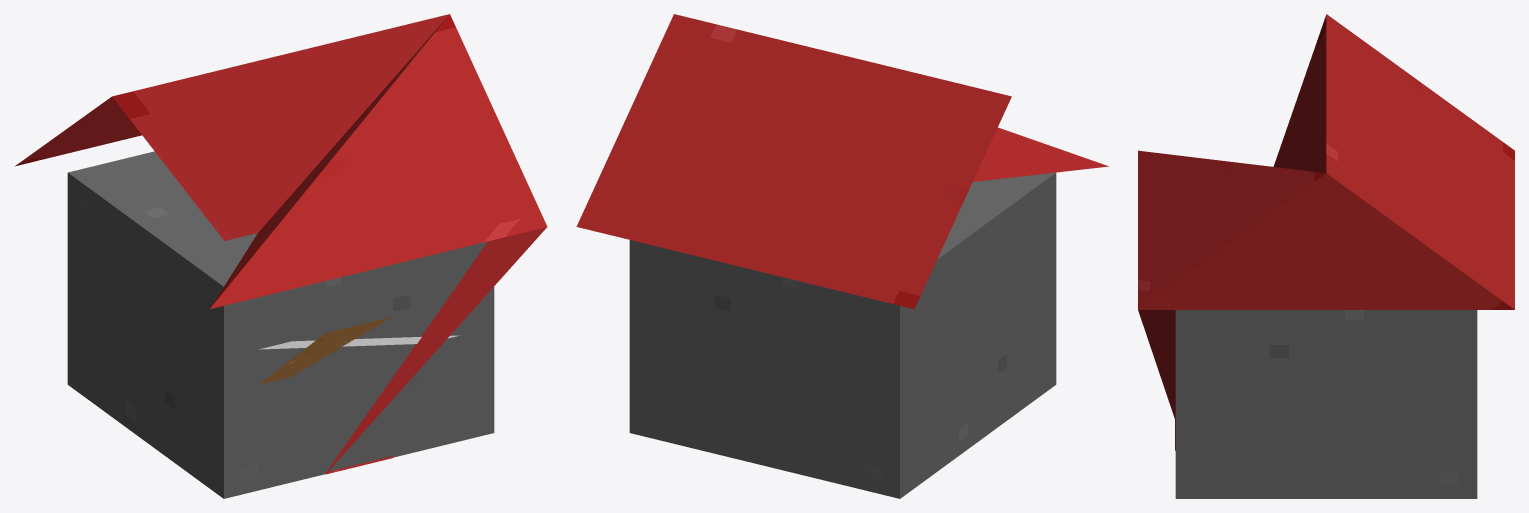
The model's file is basic_house.obj.
3 renders of one model, left to right at view 1: azimuth 30°, elevation 25°; view 2: azimuth 150°, elevation 25°; view 3: azimuth 270°, elevation 25°, orthographic. The views are drawn at different scales.
Bounding box in the file's own units: 5 × 5 × 5.
